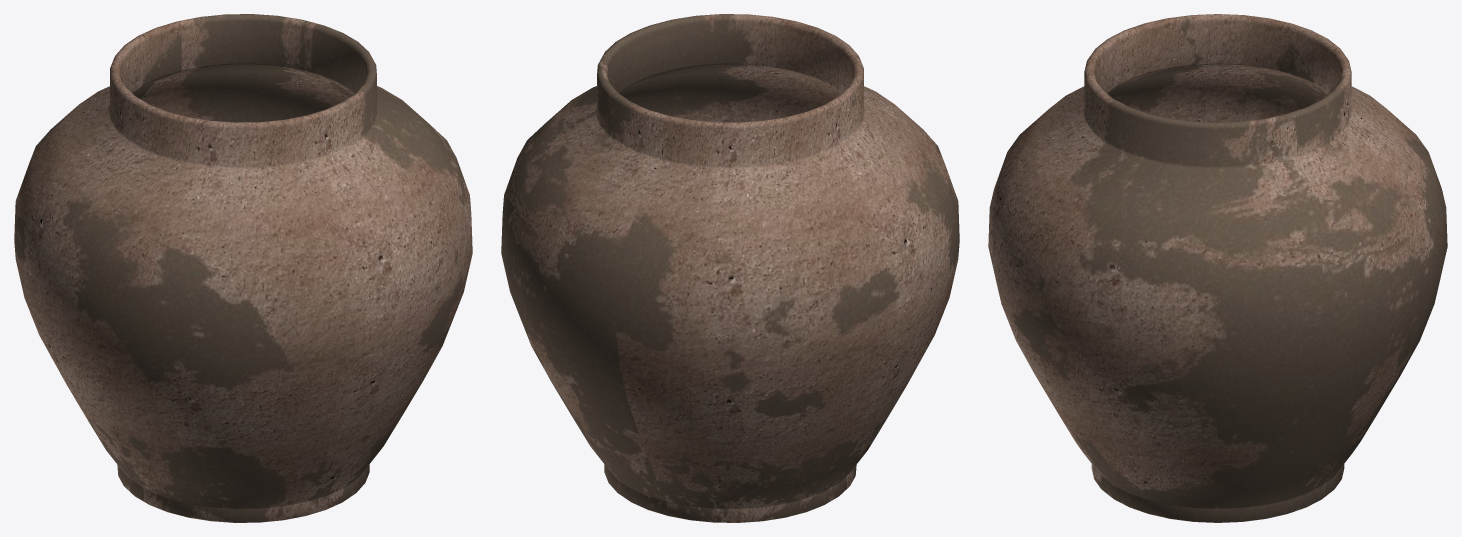
Rendered from 老罐子5.fbx.
The picture shows the model from 3 angles, left to right: view 1: azimuth 30°, elevation 25°; view 2: azimuth 150°, elevation 25°; view 3: azimuth 270°, elevation 25°; orthographic projection.
Parts seen in each view (by area): view 1: 3d66-Editable_Poly-32443966-034; view 2: 3d66-Editable_Poly-32443966-034; view 3: 3d66-Editable_Poly-32443966-034.
Part boxes in pixels (bbox=[...]): 3d66-Editable_Poly-32443966-034: bbox=[14, 14, 472, 522]; 3d66-Editable_Poly-32443966-034: bbox=[501, 14, 959, 522]; 3d66-Editable_Poly-32443966-034: bbox=[988, 14, 1447, 522].
Size of the model in its own units: 173 by 167 by 173.
1 material, 1 textured.
